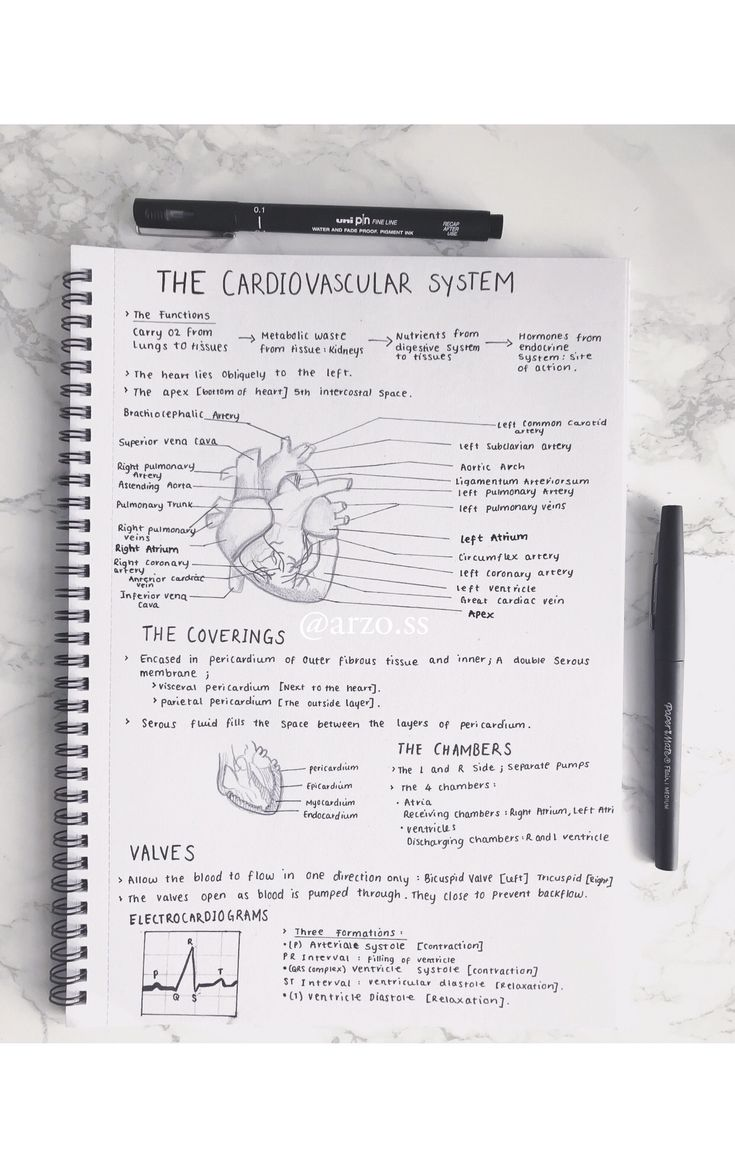page: (98, 253, 624, 1027)
